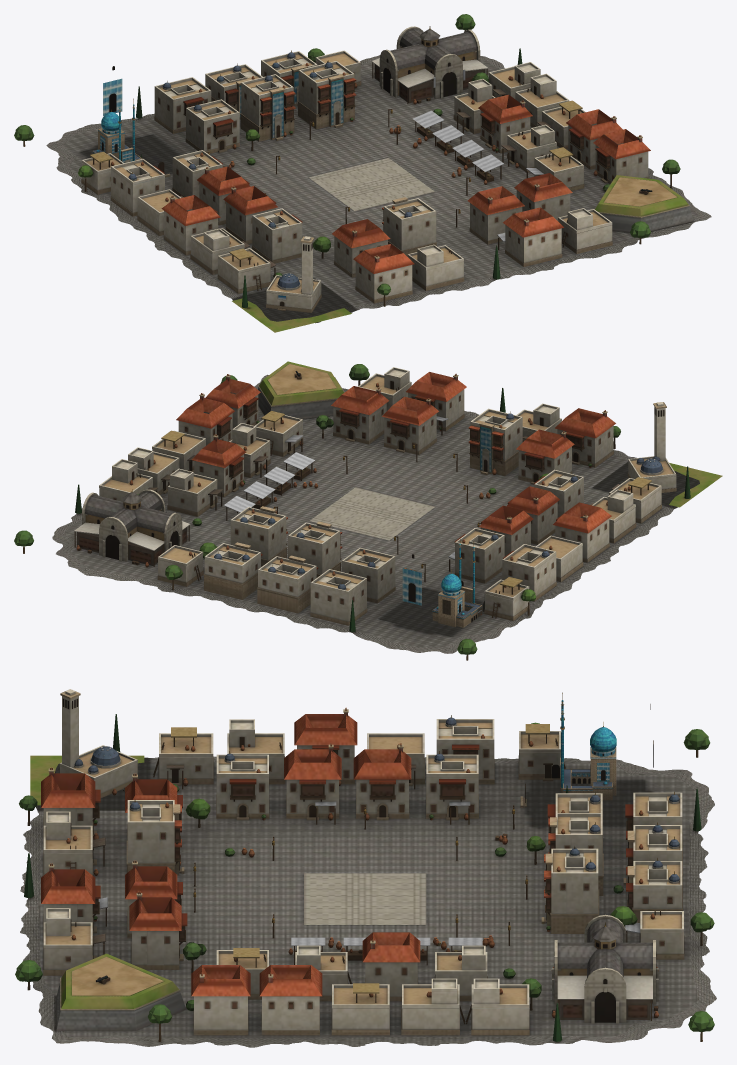
File: gunpowder-town-big-a-levant.glb
The picture shows the model from 3 angles, top to bottom: view 1: azimuth 30°, elevation 25°; view 2: azimuth 150°, elevation 25°; view 3: azimuth 270°, elevation 25°; orthographic projection. The views are drawn at different scales.
Parts seen in each view (by area): view 1: LOD0; view 2: LOD0; view 3: LOD0.
Part boxes in pixels (x1,y1,x2,y2): LOD0: (14, 14, 711, 332); LOD0: (14, 361, 722, 660); LOD0: (15, 689, 716, 1047).
Size of what is drawn, in the model's own units: 8.05 by 1.29 by 8.12.
Materials: 3 (3 with a texture image).
